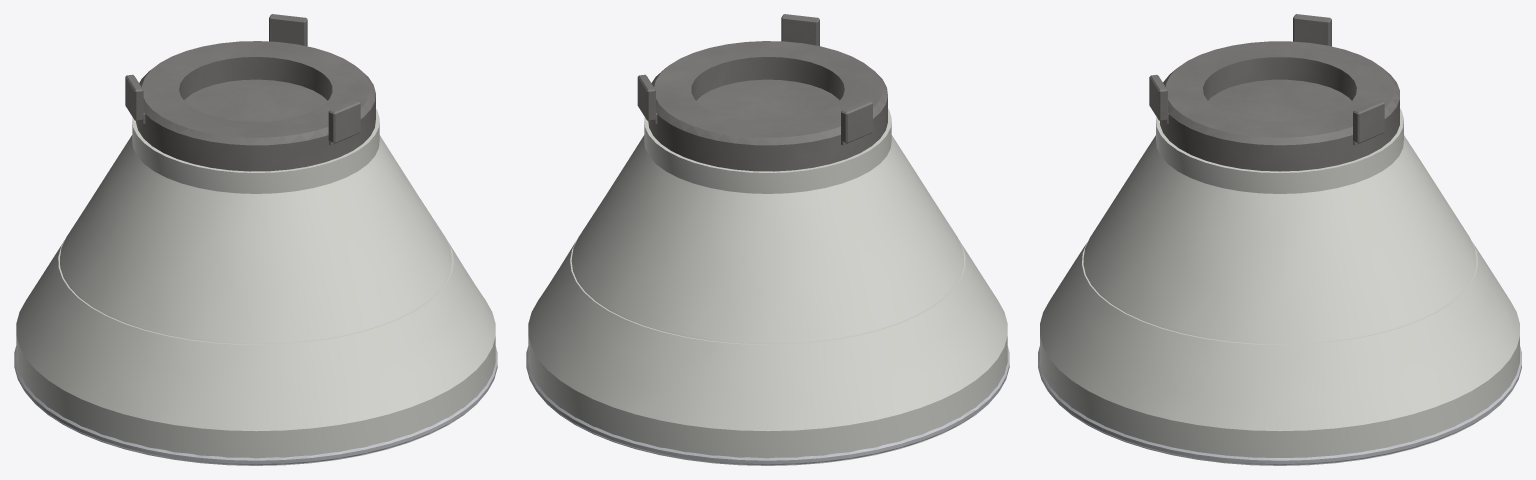
Rendered from ax_util_04_docking_adapter.glb.
3 views of the same model, side by side, from view 1: azimuth 30°, elevation 25°; view 2: azimuth 150°, elevation 25°; view 3: azimuth 270°, elevation 25° (orthographic).
Parts seen in each view (by area): view 1: adapter_shell, idss_port, hatch_door_1, cbm_face_ring, idss_port_petals; view 2: adapter_shell, idss_port, hatch_door_1, cbm_face_ring, idss_port_petals; view 3: adapter_shell, idss_port, hatch_door_1, cbm_face_ring, idss_port_petals.
Boxes of the visible parts, x1,y1,x2,y2 form: adapter_shell: (16,109,495,465); idss_port: (136,41,375,171); hatch_door_1: (184,79,327,121); cbm_face_ring: (14,346,497,465); idss_port_petals: (125,14,360,145); adapter_shell: (528,108,1007,465); idss_port: (648,41,887,171); hatch_door_1: (696,79,839,121); cbm_face_ring: (526,346,1009,465); idss_port_petals: (637,14,872,145); adapter_shell: (1040,108,1519,465); idss_port: (1160,41,1399,171); hatch_door_1: (1208,79,1351,121); cbm_face_ring: (1038,346,1521,464); idss_port_petals: (1149,14,1384,145).
Bounding box in the file's own units: 2.52 × 1.7 × 2.52.
3 materials, 2 textured.
